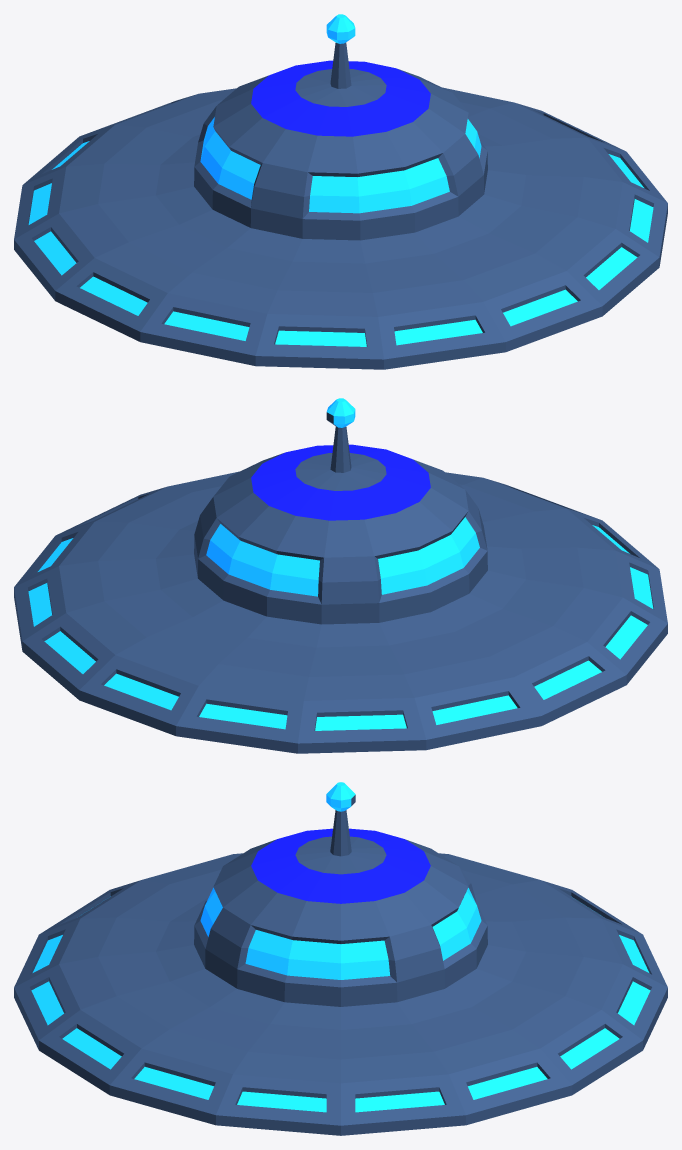
The model's file is ufo blue.fbx.
3 renders of one model, top to bottom at view 1: azimuth 30°, elevation 25°; view 2: azimuth 150°, elevation 25°; view 3: azimuth 270°, elevation 25°, orthographic.
Parts seen in each view (by area): view 1: Cube; view 2: Cube; view 3: Cube.
Boxes of the visible parts, box(x1,y1,x2,y2) form: Cube: box(14, 14, 667, 369); Cube: box(14, 398, 667, 753); Cube: box(14, 782, 667, 1135).
Bounding box in the file's own units: 256 × 104 × 256.
